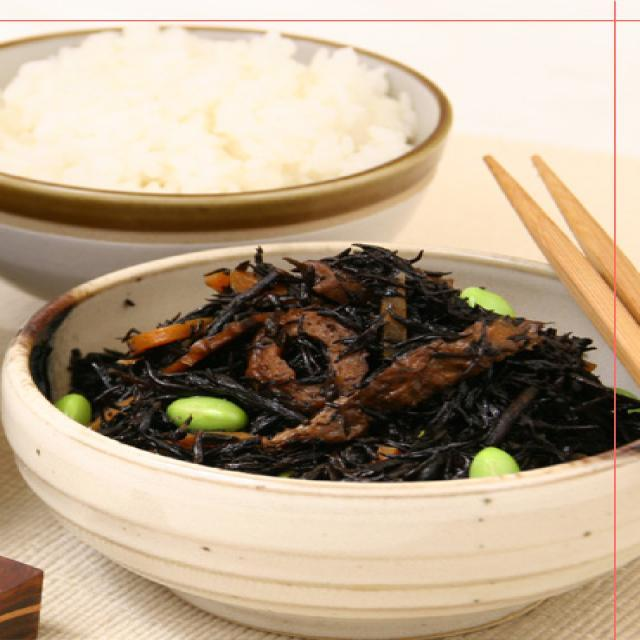Rice: (2, 15, 414, 196)
